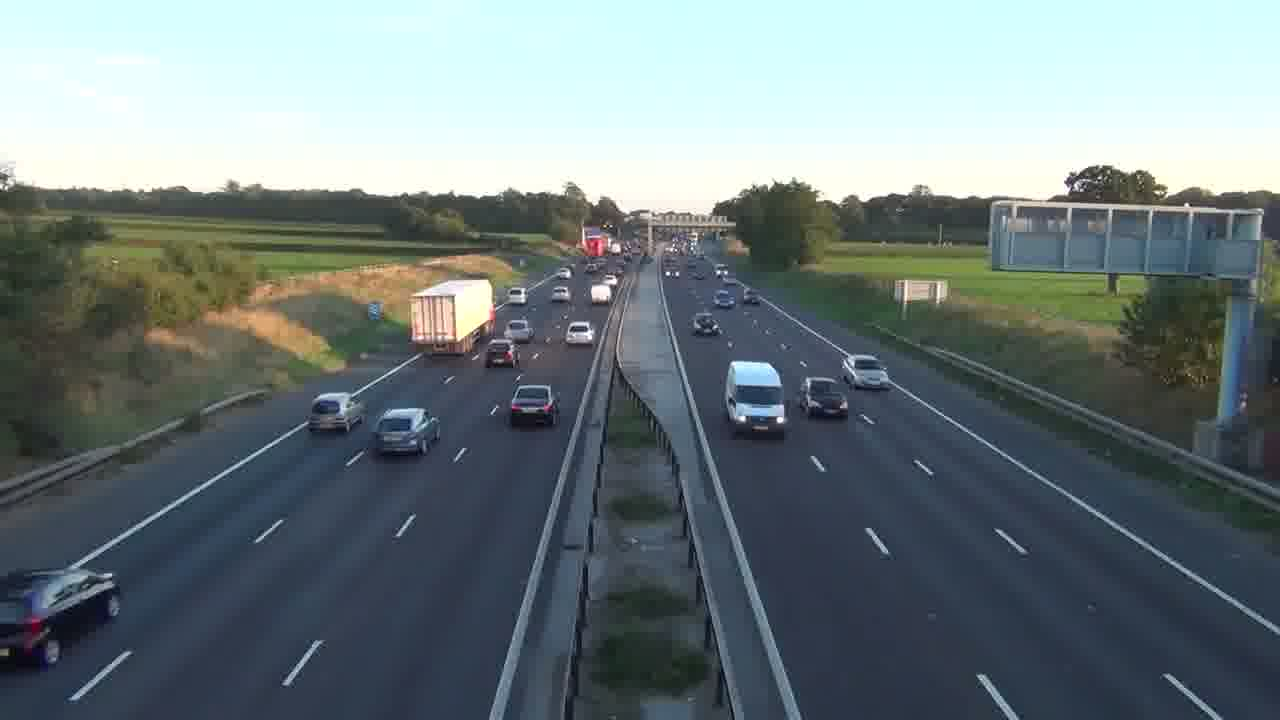car: (371, 407, 440, 456), (509, 383, 561, 427), (798, 376, 850, 419), (839, 353, 891, 391), (307, 392, 355, 432), (486, 339, 518, 368), (565, 321, 594, 346), (505, 318, 534, 343), (713, 288, 736, 309)
truck: (0, 565, 123, 668), (409, 277, 495, 355), (723, 360, 787, 439)
